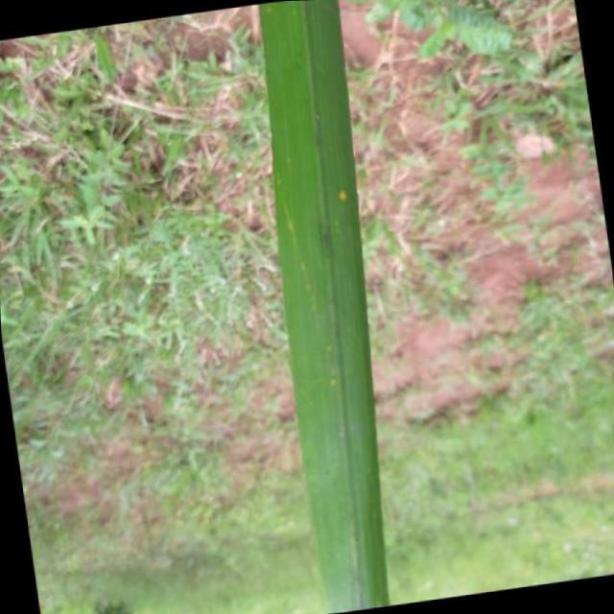Kalium: (260, 0, 392, 614)
